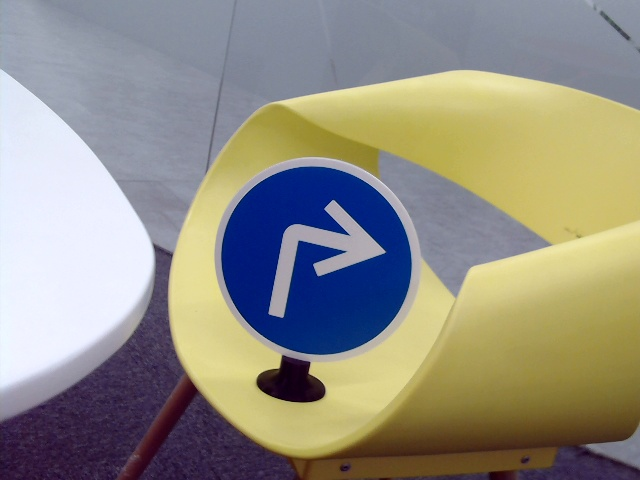turn_right: (262, 196, 378, 318)
